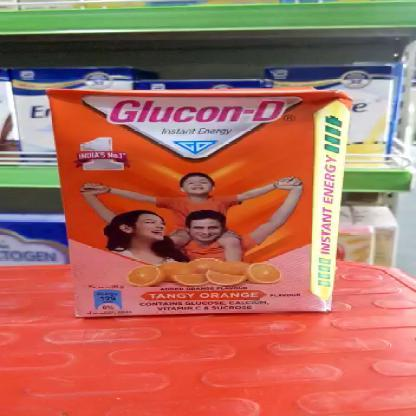Glucon D Tangy orange 1-KG: (55, 87, 320, 318)
